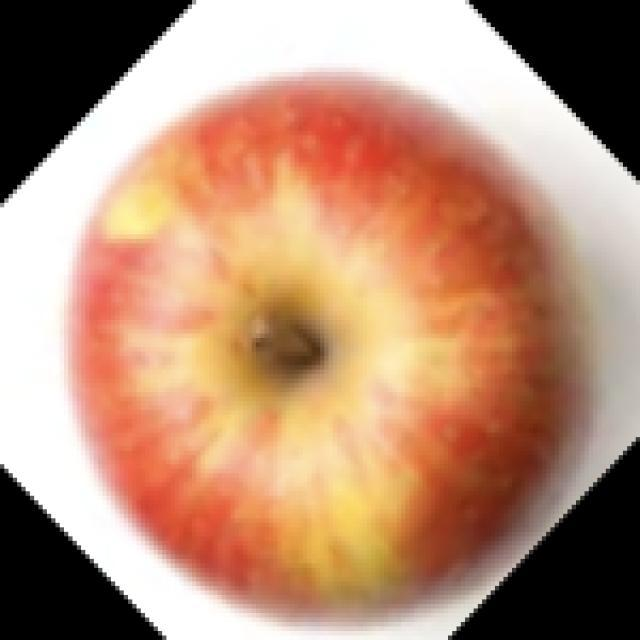Fresh Apple: (93, 75, 580, 600)
